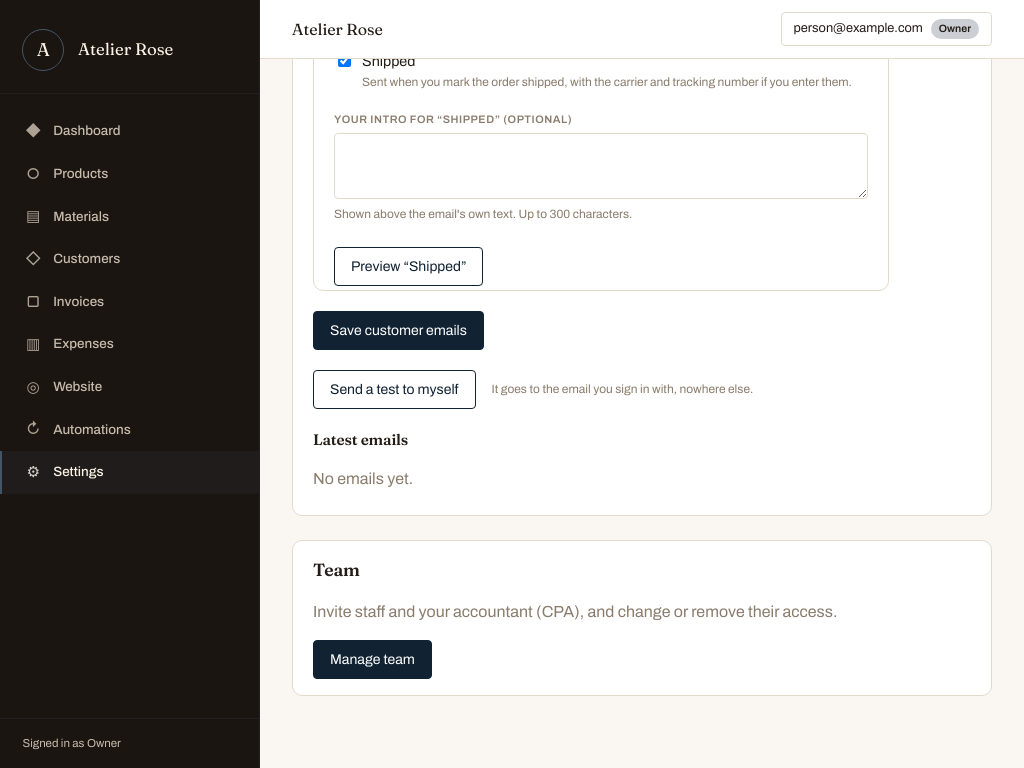
it: settings › emails › sends a test to the owner's own email
(page scrolled)
Expected: the text "It goes to the email you sign in with, nowhere else." is shown, [492, 380, 753, 398]
Click the button "Send a test to myself" at (394, 389), box [313, 370, 476, 408]
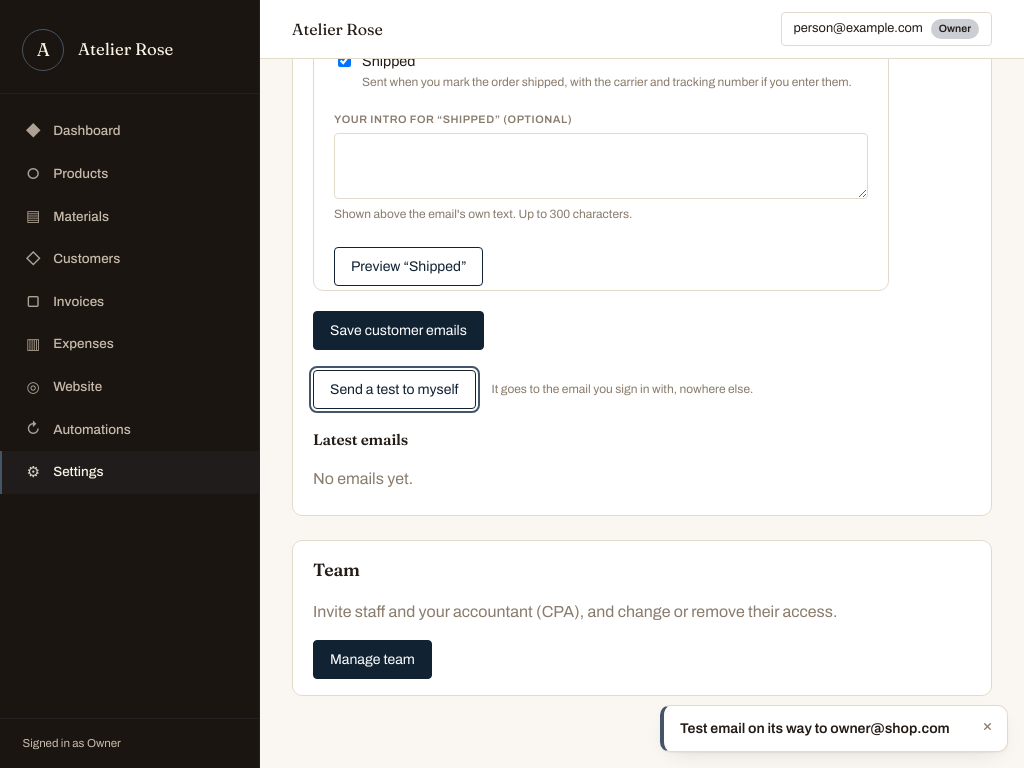
Result: the text "Test email on its way to owner@shop.com" is shown at [680, 718, 971, 739]
